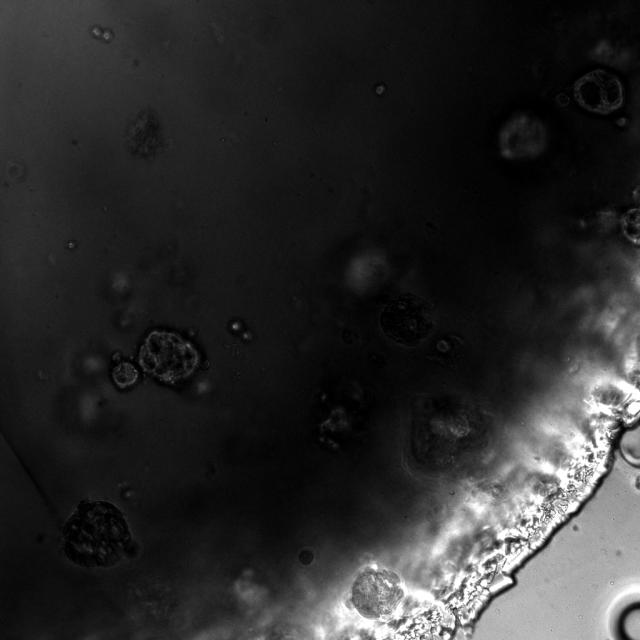organoid: (408, 394, 503, 495), (111, 327, 203, 390), (62, 500, 132, 567), (314, 379, 371, 450), (379, 294, 435, 346), (351, 568, 403, 618), (499, 112, 548, 162), (124, 107, 169, 160), (574, 68, 624, 115), (620, 185, 639, 246), (430, 334, 462, 366), (90, 24, 114, 43), (368, 352, 388, 369)
